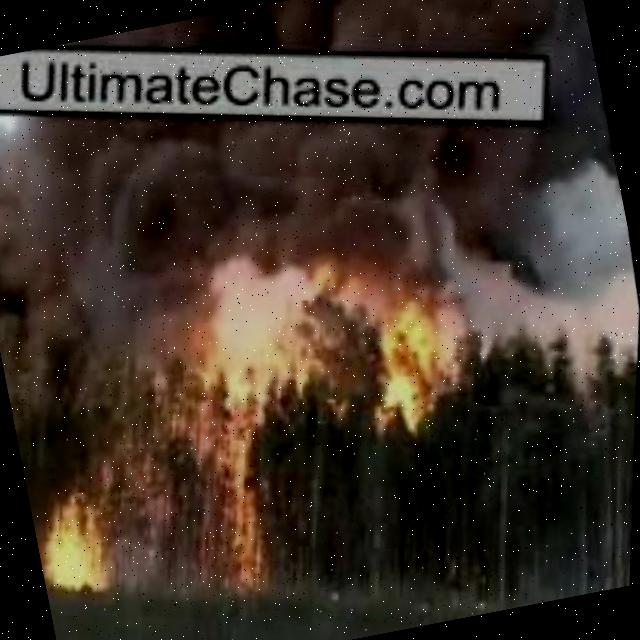fire: (156, 317, 335, 618), (356, 293, 477, 439), (28, 474, 152, 610)
